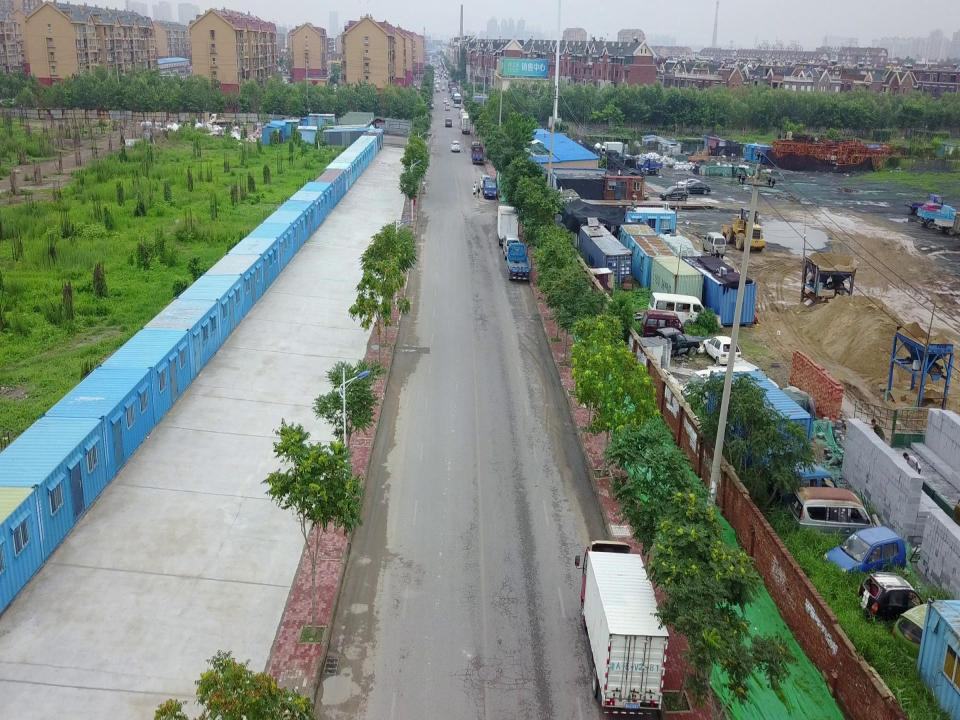bus: (453, 93, 462, 108)
car: (822, 524, 908, 585), (890, 598, 958, 669), (855, 570, 931, 625), (641, 325, 701, 362), (702, 335, 741, 368), (658, 184, 688, 201), (921, 202, 950, 217), (675, 178, 706, 191), (683, 181, 711, 194), (480, 174, 492, 190), (450, 140, 460, 152), (444, 117, 452, 127), (430, 101, 434, 109), (443, 97, 448, 103)
truck: (573, 536, 672, 720), (916, 204, 960, 229), (504, 243, 532, 281), (496, 204, 520, 246), (905, 192, 947, 215), (933, 212, 960, 236), (592, 141, 624, 160), (636, 157, 663, 176), (208, 113, 232, 127), (482, 177, 497, 199), (471, 144, 485, 165), (461, 116, 471, 134), (459, 110, 469, 126), (471, 141, 481, 155)
van: (789, 487, 875, 546), (766, 463, 844, 517), (649, 291, 709, 331), (639, 308, 685, 341), (700, 231, 728, 257), (502, 232, 520, 260), (444, 102, 450, 111)
